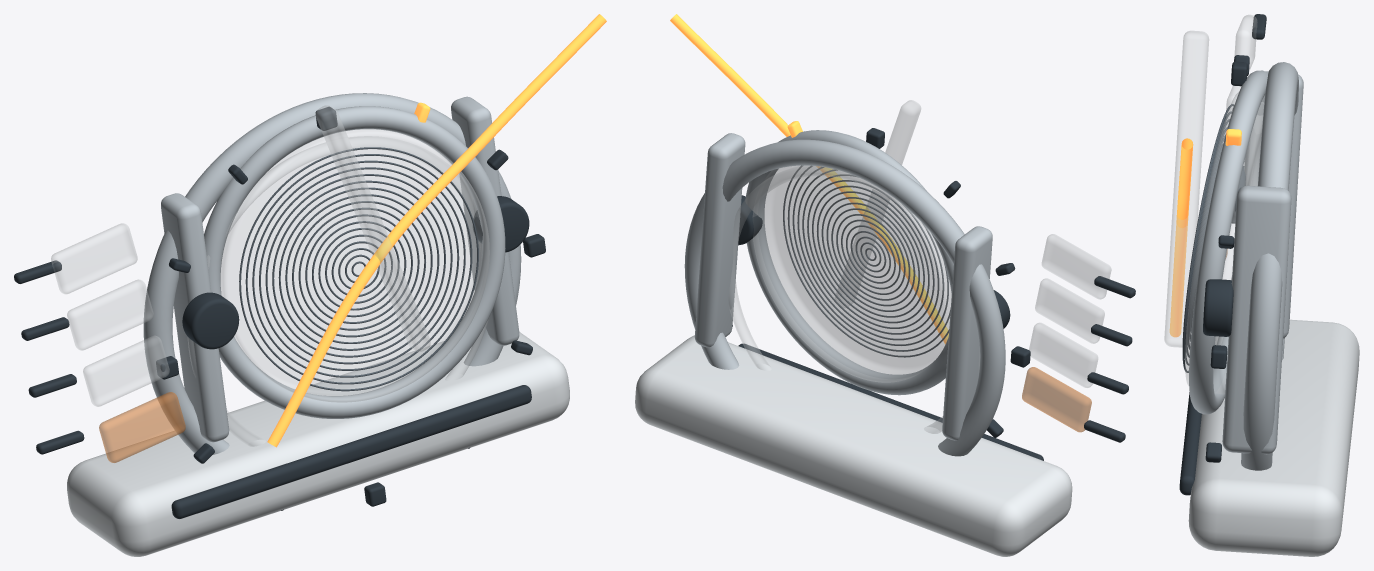
Rendered from bronzed-heliostat.glb.
The picture shows the model from 3 angles, left to right: view 1: azimuth 30°, elevation 25°; view 2: azimuth 150°, elevation 25°; view 3: azimuth 270°, elevation 25°; orthographic projection. The views are drawn at different scales.
Parts seen in each view (by area): view 1: FresnelLens, AzimuthPlinth, LensGimbal, AzimuthRing, AzimuthRecess, GimbalArm_L, SolarBeam, HeliostatGnomon, GimbalArm_R, AzimuthGlassTrack, Filter_4, Filter_3 (+15 smaller); view 2: AzimuthPlinth, FresnelLens, AzimuthRing, LensGimbal, GimbalArm_R, GimbalArm_L, AzimuthGlassTrack, SolarBeam, Filter_4, Filter_3, Filter_2, HeliostatGnomon (+13 smaller); view 3: AzimuthPlinth, AzimuthRing, GimbalArm_R, LensGimbal, HeliostatGnomon, FresnelLens, SolarBeam, GimbalArm_L, GimbalBearing_R, AzimuthRecess, AzimuthGlassTrack, Filter_1 (+11 smaller).
Part boxes in pixels (x1=…): FresnelLens: x1=220, y1=129, x2=489, y2=402; AzimuthPlinth: x1=67, y1=332, x2=569, y2=556; LensGimbal: x1=204, y1=106, x2=505, y2=418; AzimuthRing: x1=143, y1=93, x2=521, y2=454; AzimuthRecess: x1=171, y1=385, x2=531, y2=518; GimbalArm_L: x1=161, y1=193, x2=229, y2=442; SolarBeam: x1=267, y1=14, x2=606, y2=447; HeliostatGnomon: x1=316, y1=105, x2=430, y2=351; GimbalArm_R: x1=451, y1=96, x2=519, y2=345; AzimuthGlassTrack: x1=188, y1=136, x2=488, y2=446; Filter_4: x1=99, y1=392, x2=185, y2=462; Filter_3: x1=83, y1=336, x2=169, y2=406; AzimuthPlinth: x1=635, y1=335, x2=1072, y2=556; FresnelLens: x1=753, y1=166, x2=951, y2=382; AzimuthRing: x1=684, y1=139, x2=1005, y2=456; LensGimbal: x1=745, y1=130, x2=953, y2=395; GimbalArm_R: x1=694, y1=133, x2=745, y2=347; GimbalArm_L: x1=942, y1=226, x2=992, y2=440; AzimuthGlassTrack: x1=729, y1=166, x2=979, y2=433; SolarBeam: x1=670, y1=14, x2=948, y2=344; Filter_4: x1=1022, y1=367, x2=1091, y2=432; Filter_3: x1=1029, y1=323, x2=1097, y2=387; Filter_2: x1=1035, y1=278, x2=1104, y2=343; HeliostatGnomon: x1=835, y1=100, x2=920, y2=307; AzimuthPlinth: x1=1188, y1=319, x2=1359, y2=556; AzimuthRing: x1=1241, y1=62, x2=1298, y2=470; GimbalArm_R: x1=1222, y1=185, x2=1291, y2=454; LensGimbal: x1=1189, y1=70, x2=1268, y2=414; HeliostatGnomon: x1=1164, y1=31, x2=1208, y2=347; FresnelLens: x1=1185, y1=92, x2=1264, y2=393; SolarBeam: x1=1169, y1=138, x2=1193, y2=337; GimbalArm_L: x1=1244, y1=71, x2=1303, y2=338; GimbalBearing_R: x1=1203, y1=279, x2=1233, y2=336; AzimuthRecess: x1=1179, y1=392, x2=1201, y2=495; AzimuthGlassTrack: x1=1246, y1=102, x2=1263, y2=185; Filter_1: x1=1234, y1=15, x2=1257, y2=71.
Bounding box in the file's own units: 5.29 × 4.11 × 1.51.
